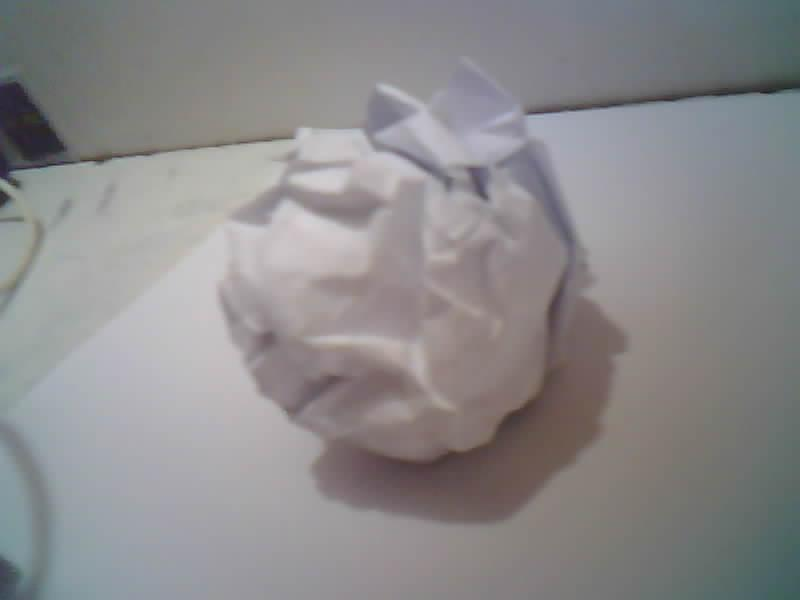biodegradable: (219, 61, 583, 461)
